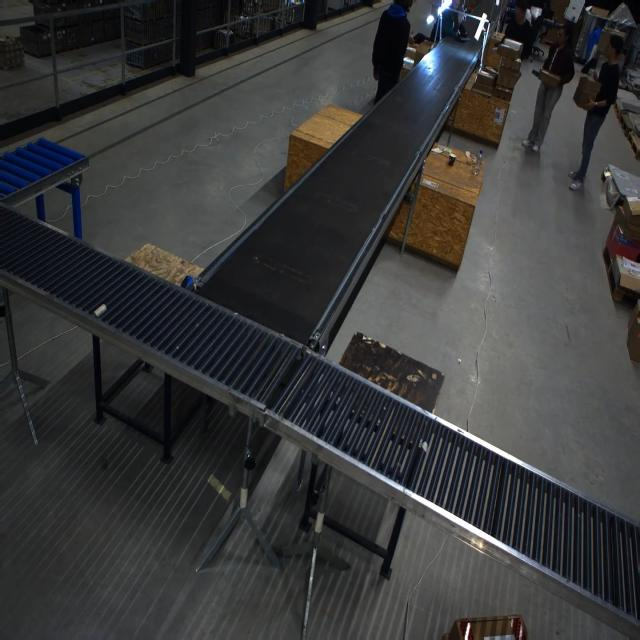box: (573, 75, 599, 111), (538, 68, 561, 89)
